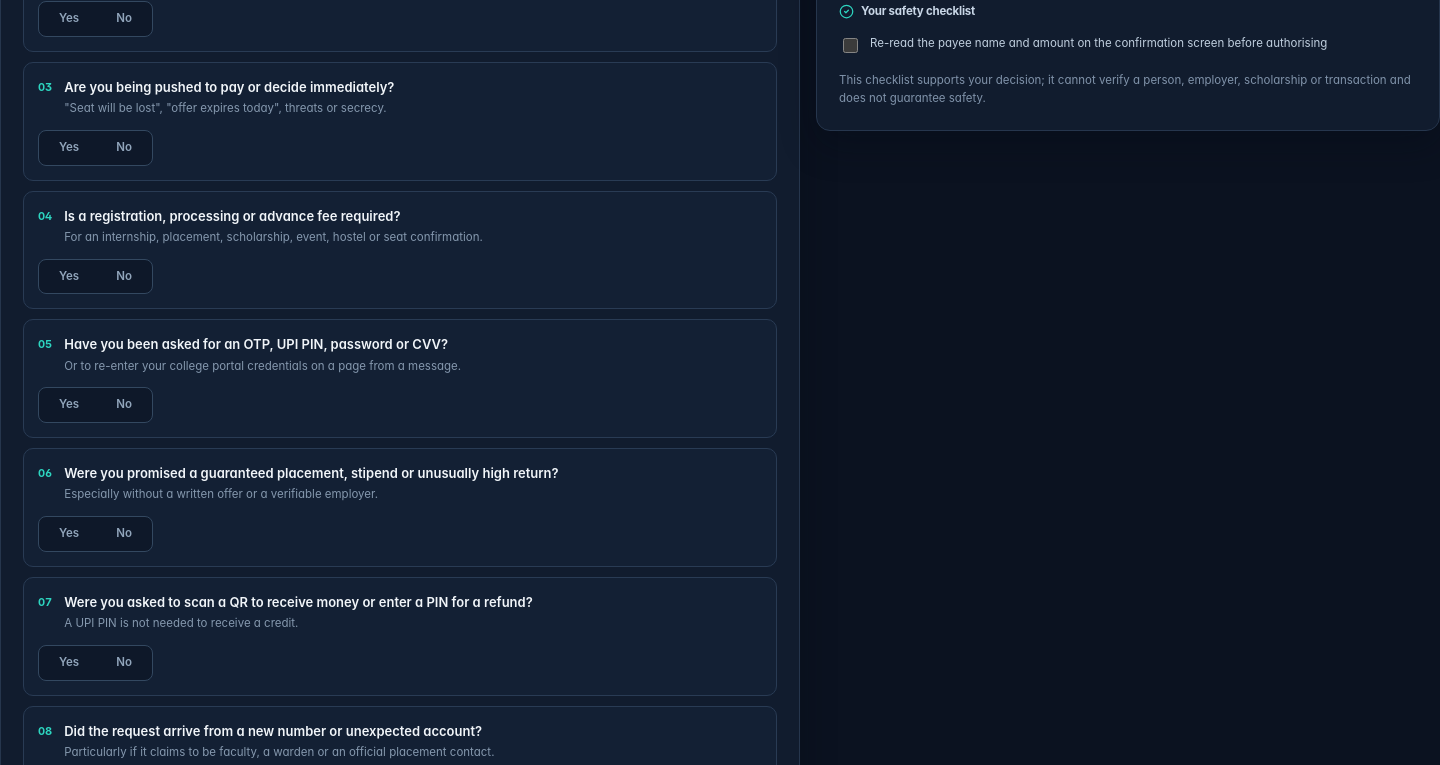
Test case: payment safety integration › updates the live assessment as answers are selected
(page scrolled)
Click the button "Yes" below "05" at (69, 405), box left=42, top=391, right=96, bottom=419
(page scrolled)
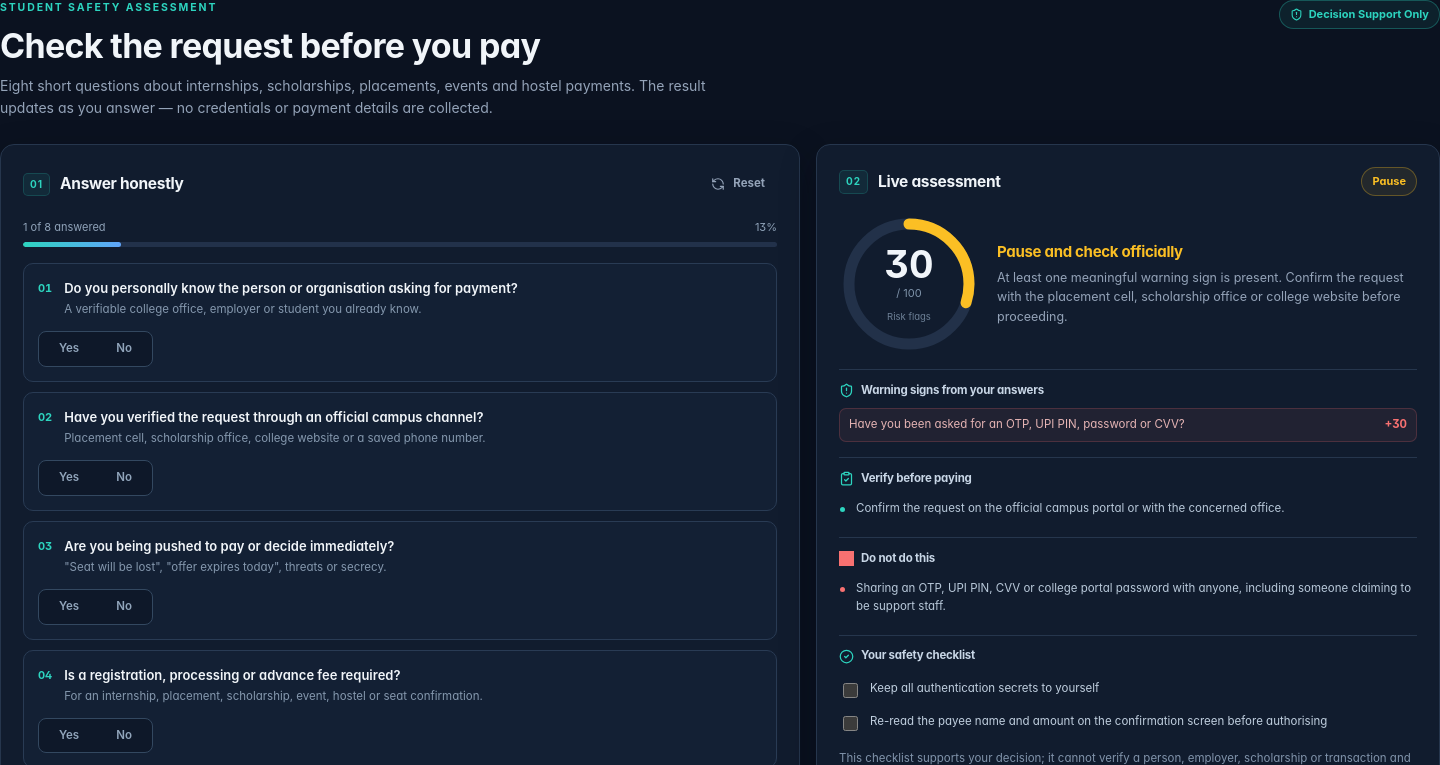
expect the heading "Pause and check officially" is shown: met, box left=997, top=242, right=1183, bottom=261
expect the list item "Sharing an OTP" is shown: met, box left=856, top=581, right=1411, bottom=613
Click the 1st button "No" at (124, 349), box left=99, top=335, right=149, bottom=363
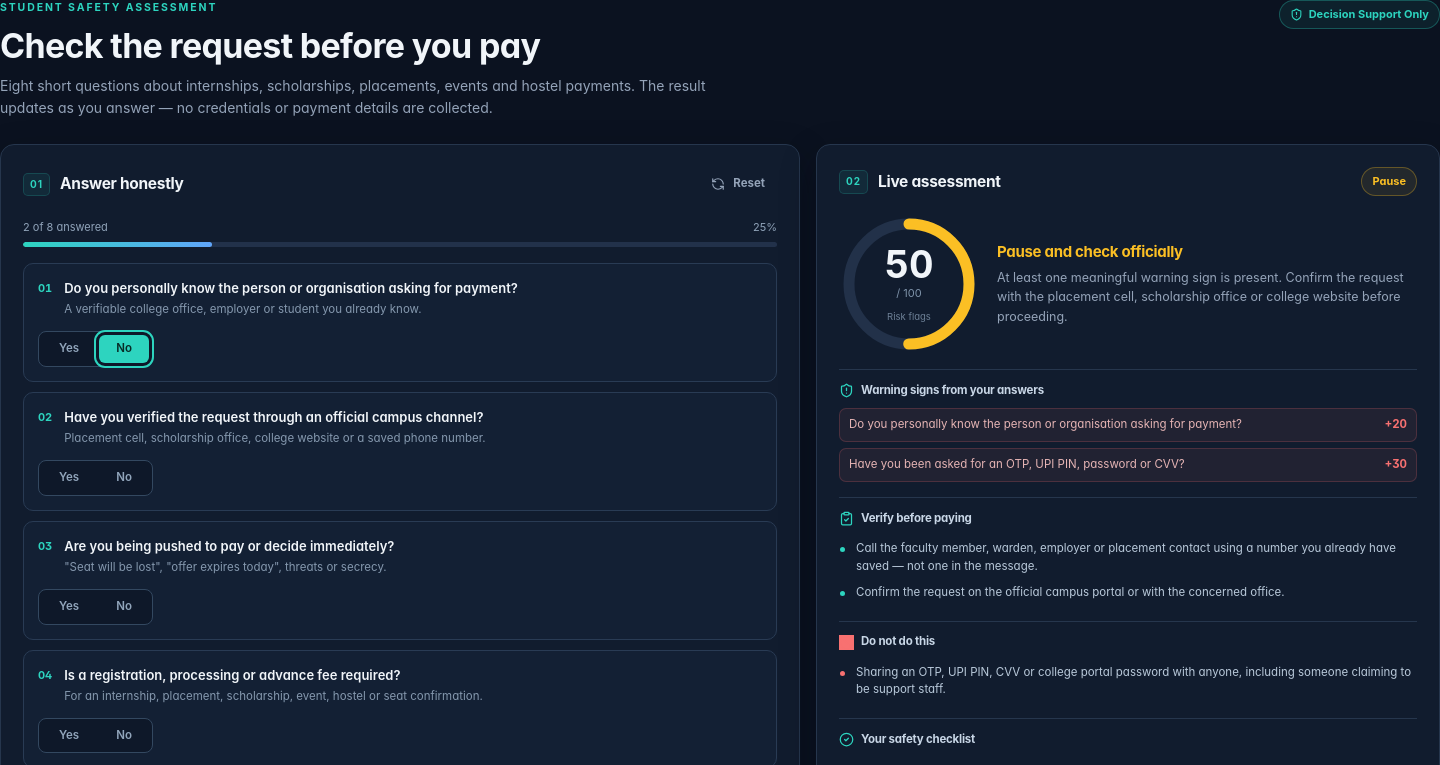
Click the button "Yes" below "03" at (69, 607), box left=42, top=593, right=96, bottom=621
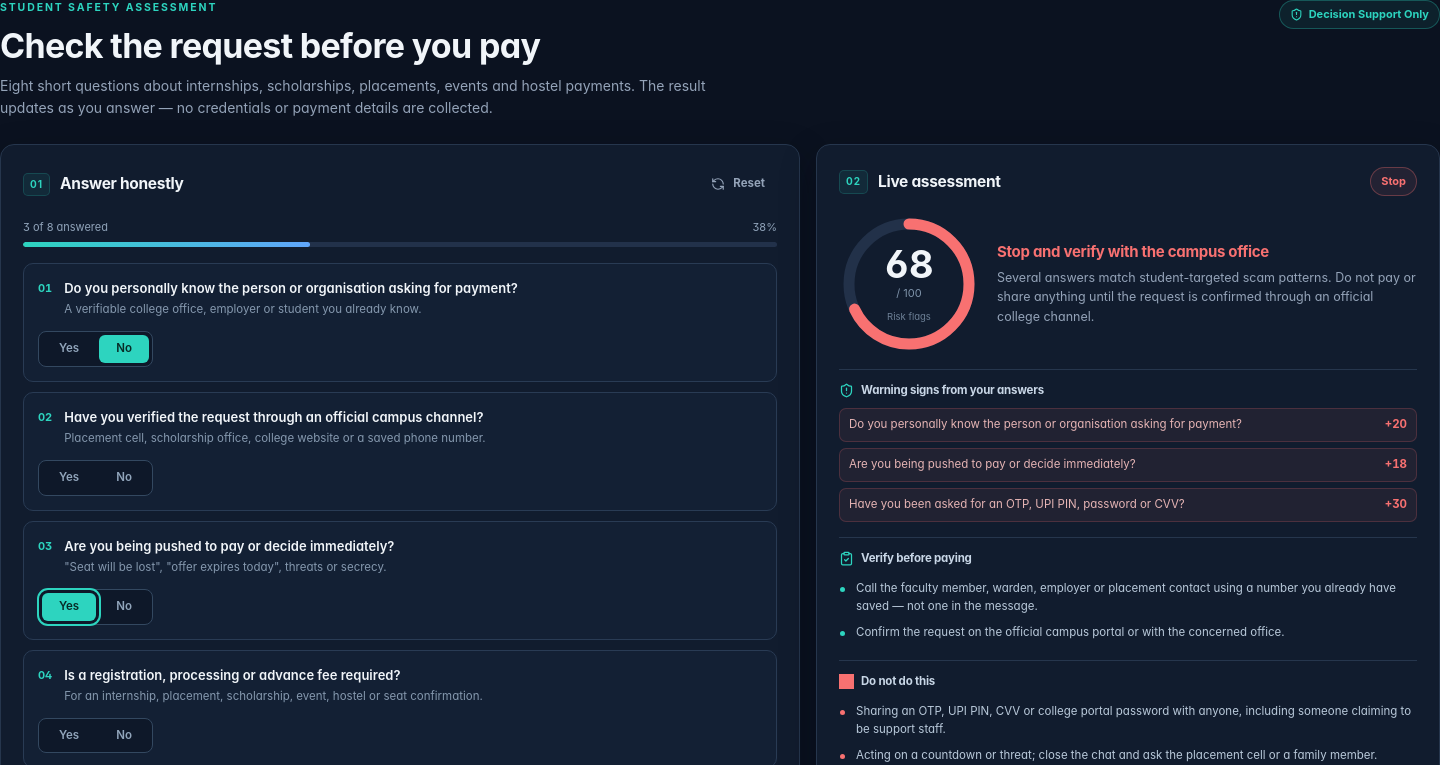
expect the heading "Stop and verify with the campus office" is shown: met, box left=997, top=242, right=1269, bottom=261
Click the button "Reset" at (738, 184), box left=699, top=167, right=777, bottom=201
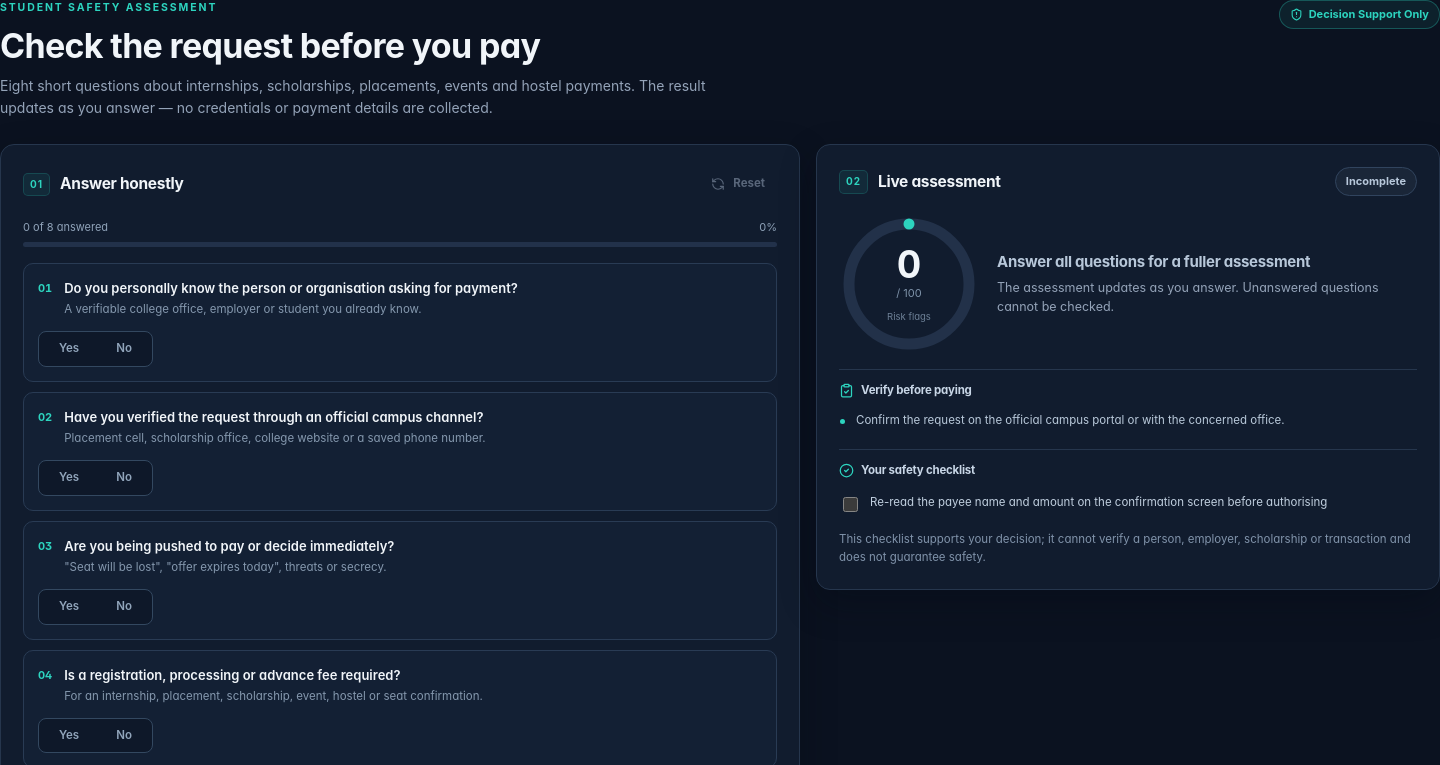
expect the heading "Answer all questions for a fuller assessment" is shown: met, box left=997, top=252, right=1310, bottom=271
